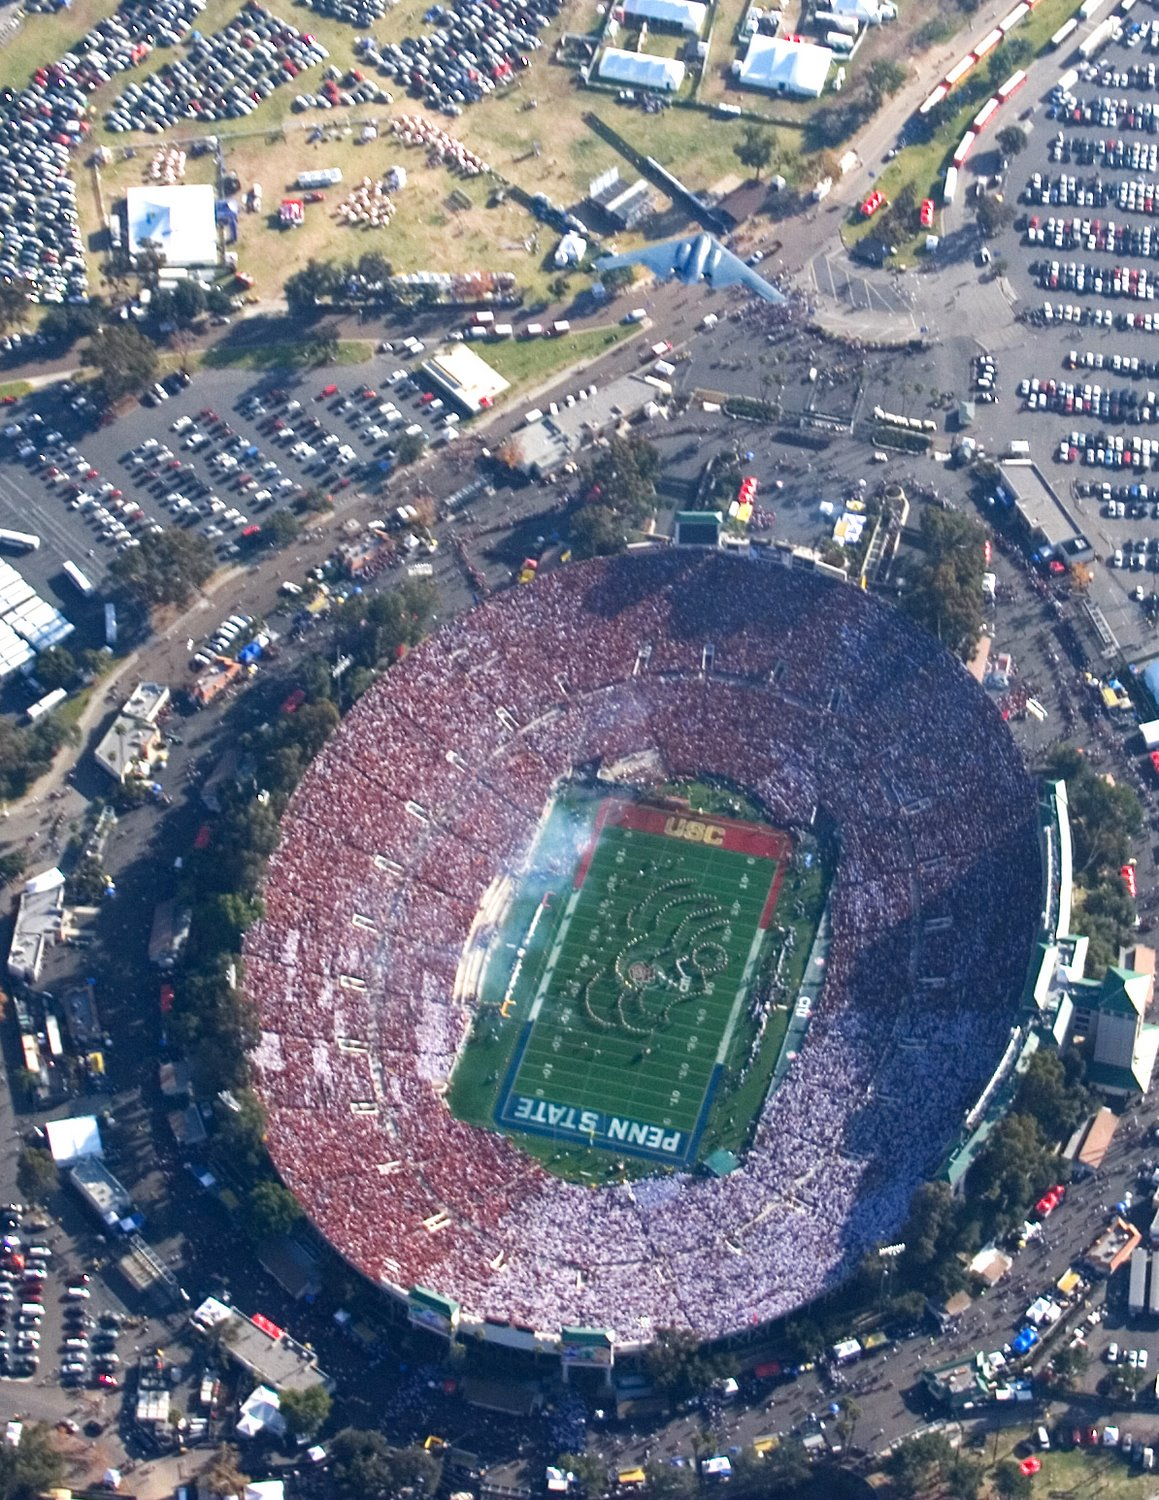B2: (589, 230, 788, 304)
